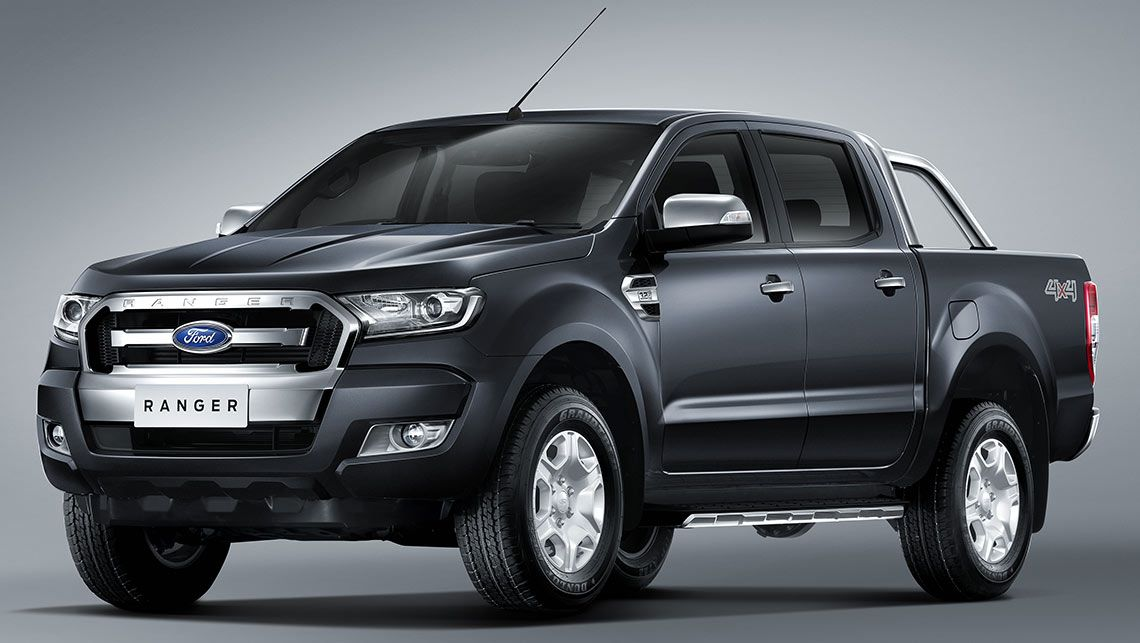pickup: (31, 102, 1110, 621)
